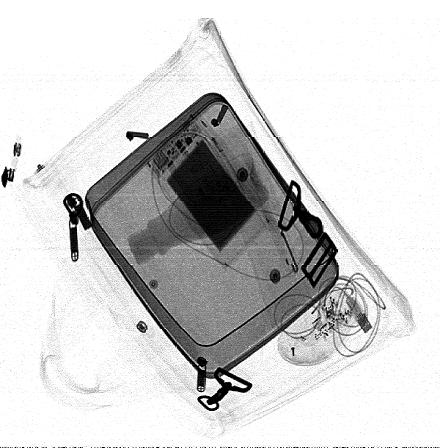Powerbank: (145, 114, 266, 272)
